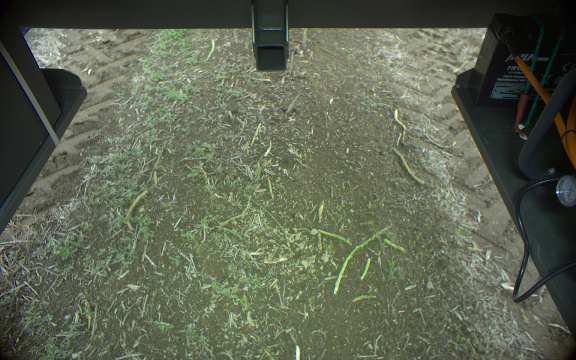aspa: (333, 224, 391, 294), (390, 149, 425, 184), (315, 226, 355, 247), (282, 84, 309, 113), (382, 238, 407, 251), (298, 28, 310, 54), (357, 256, 370, 278), (265, 176, 275, 201)
